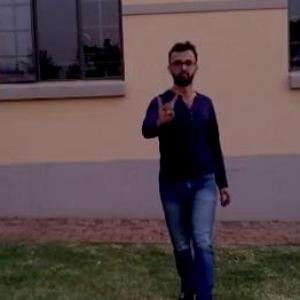takeoff-hand: (149, 89, 184, 125)
